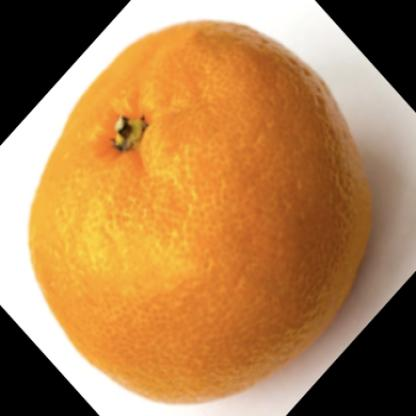fresh: (29, 20, 370, 404)
